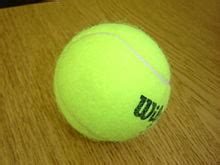tennis_ball: (52, 22, 172, 142)
